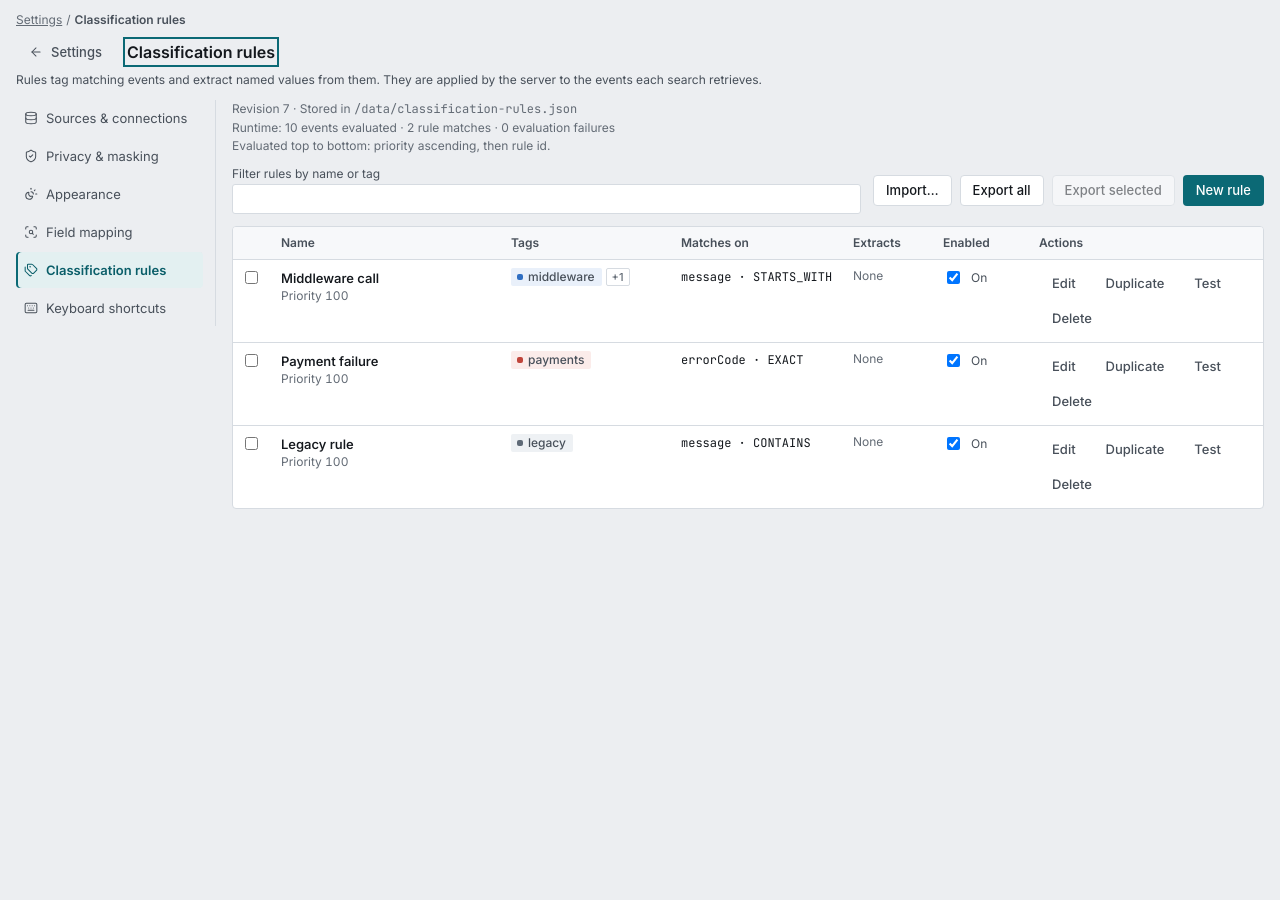
Test: Tag colour - choosing it in the Classification step › an edited rule opens on its saved colour rather than resetting to the neutral default
Click the button with aria-label "Edit Payment failure" at (1064, 366), box [1039, 351, 1089, 382]
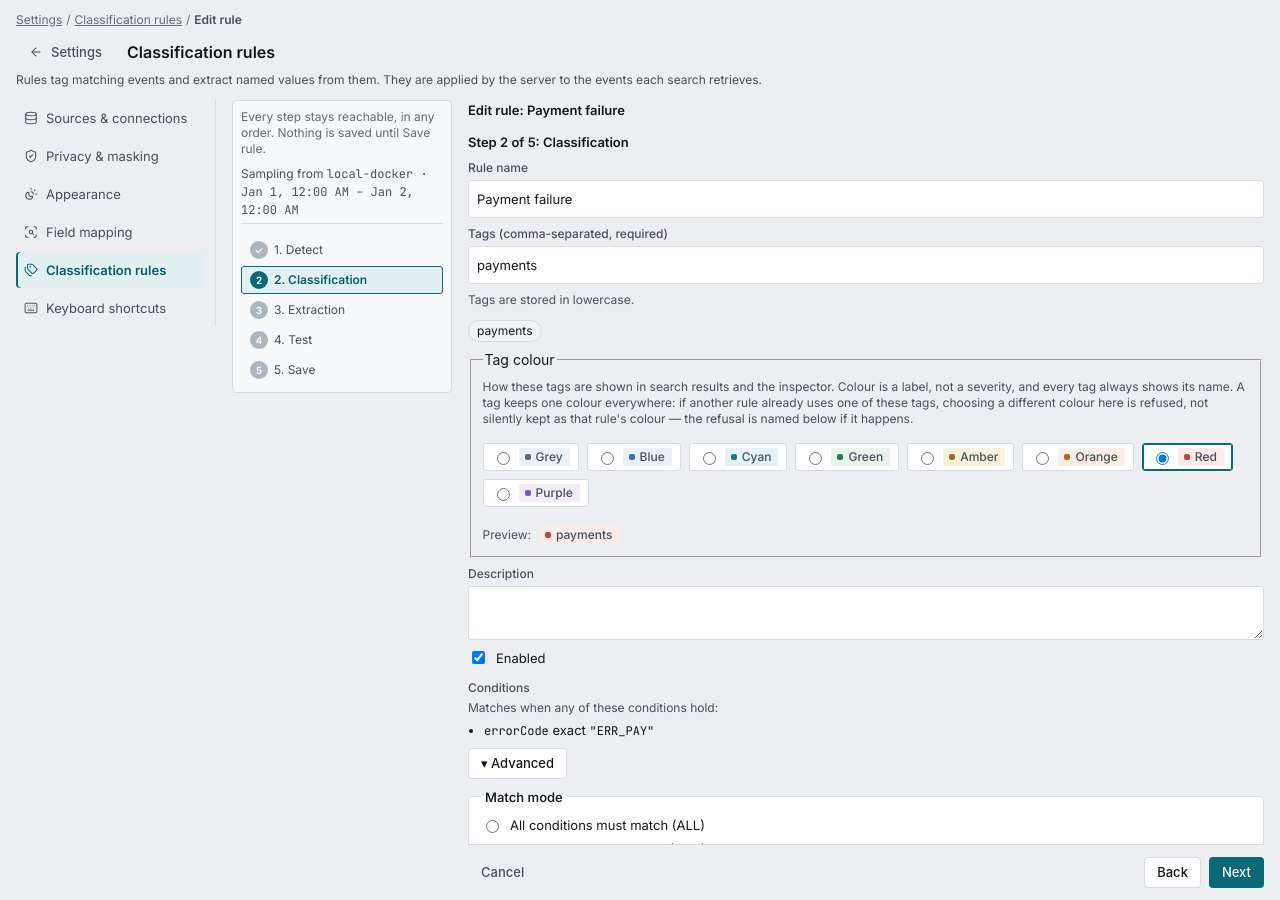
Expected: the radio button labelled "Red" is checked, [1156, 452, 1169, 465]
